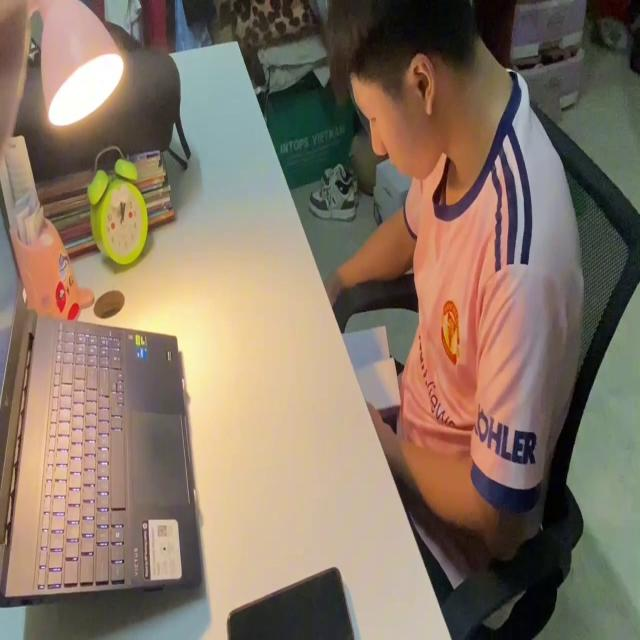book: (336, 328, 403, 415)
laptop: (0, 188, 202, 609)
phone: (224, 566, 355, 640)
student: (328, 0, 586, 579)
